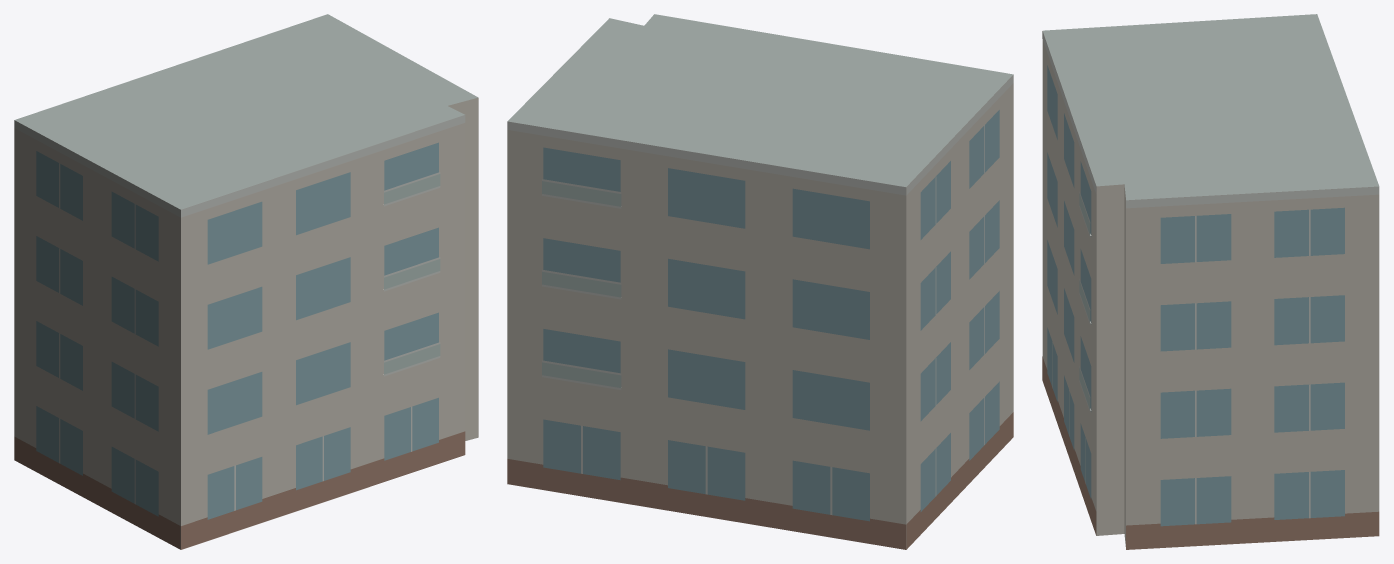
The model's file is survey-upis-32574911.glb.
The picture shows the model from 3 angles, left to right: view 1: azimuth 30°, elevation 25°; view 2: azimuth 150°, elevation 25°; view 3: azimuth 270°, elevation 25°; orthographic projection. The views are drawn at different scales.
Parts seen in each view (by area): view 1: survey-upis-32574911.tmp; view 2: survey-upis-32574911.tmp; view 3: survey-upis-32574911.tmp.
Boxes of the visible parts, left/top/right/bottom form: survey-upis-32574911.tmp: left=14, top=14, right=478, bottom=549; survey-upis-32574911.tmp: left=507, top=14, right=1013, bottom=549; survey-upis-32574911.tmp: left=1042, top=14, right=1379, bottom=549.
Size of the model in its own units: 12.01 by 10.5 by 9.18.
